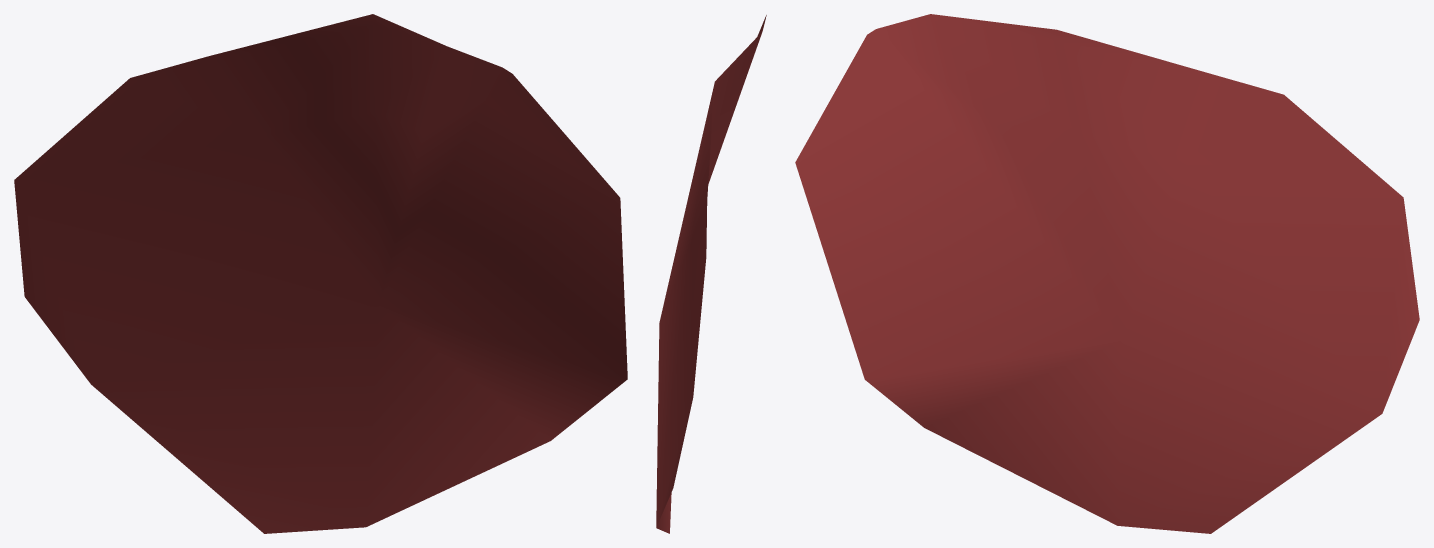
File: obliquus-inferior-capitis-muscle-el.glb
3 views of the same model, side by side, from view 1: azimuth 30°, elevation 25°; view 2: azimuth 150°, elevation 25°; view 3: azimuth 270°, elevation 25° (orthographic). The views are drawn at different scales.
Visible parts, largest first — view 1: Obliquus inferior capitis muscle.el; view 2: Obliquus inferior capitis muscle.el; view 3: Obliquus inferior capitis muscle.el.
Boxes of the visible parts, x1,y1,x2,y2 form: Obliquus inferior capitis muscle.el: (14,14,627,533); Obliquus inferior capitis muscle.el: (656,15,766,533); Obliquus inferior capitis muscle.el: (795,14,1419,533).
Bounding box in the file's own units: 0.00243 × 0.00447 × 0.00476.
